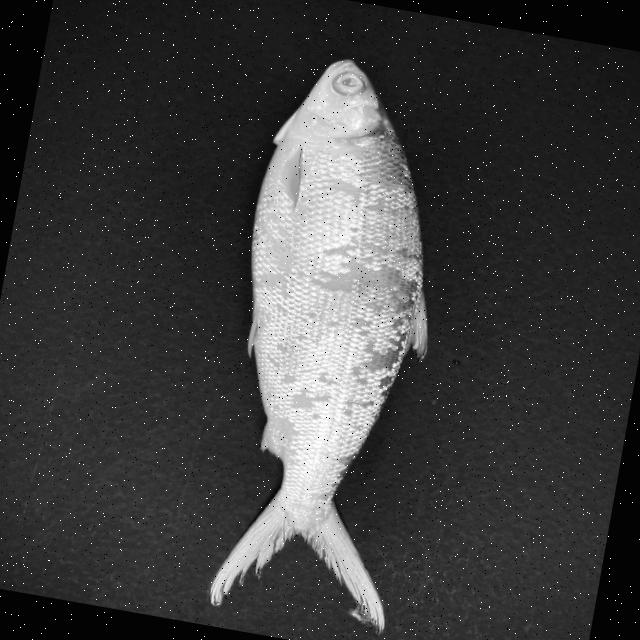605 g: (184, 46, 481, 637)
